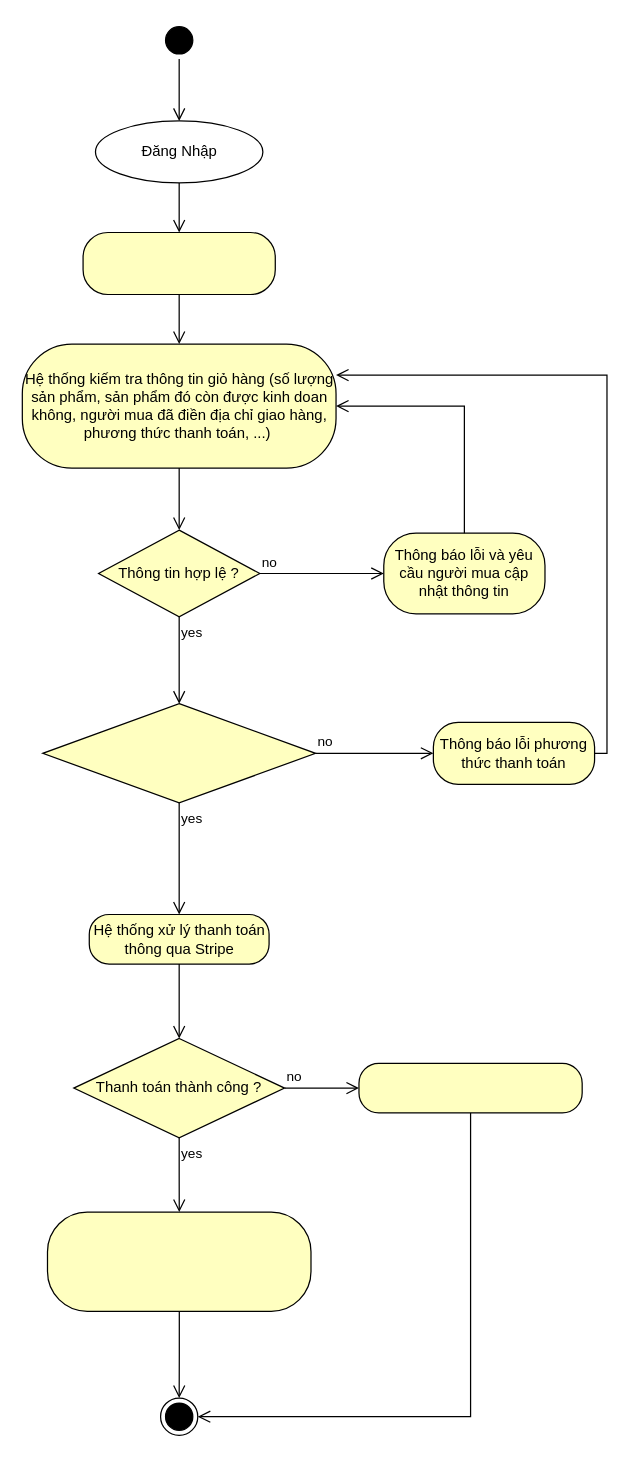
Image size: 641x1457. Some labels were removed from this diagram. The box of each missing label's shape, as (x1, y1, x2, y2) in pixels:
Hệ thống cập nhật trạng thái thanh toán và gửi thông báo xác nhạn qua email: (46, 1211, 311, 1311)
Người mua xác nhận đặt hàng: (82, 231, 275, 294)
Phương thức thanh toán hợp lệ ?: (42, 702, 316, 803)
Thông báo lỗi thanh toán, yêu cầu người dùng thanh toán lại: (358, 1062, 582, 1113)
